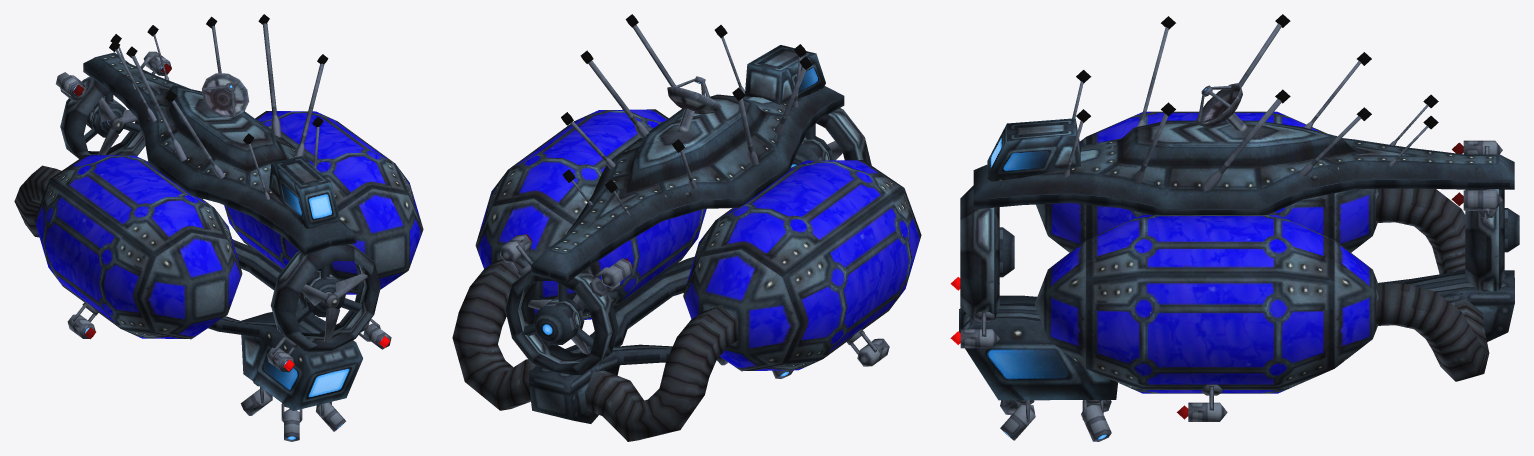
The model's file is Blimp.glb.
The picture shows the model from 3 angles, left to right: view 1: azimuth 30°, elevation 25°; view 2: azimuth 150°, elevation 25°; view 3: azimuth 270°, elevation 25°; orthographic projection. The views are drawn at different scales.
Parts seen in each view (by area): view 1: Object03, Mesh, Sphere02; view 2: Object03, Mesh, Sphere02; view 3: Object03, Mesh, Sphere02.
Part boxes in pixels (bbox=[...]): Object03: bbox=[14, 23, 391, 410]; Mesh: bbox=[34, 97, 423, 441]; Sphere02: bbox=[73, 14, 390, 371]; Object03: bbox=[452, 24, 889, 441]; Mesh: bbox=[475, 109, 921, 378]; Sphere02: bbox=[525, 14, 812, 266]; Object03: bbox=[959, 23, 1519, 421]; Mesh: bbox=[1000, 111, 1378, 441]; Sphere02: bbox=[950, 14, 1463, 419].
Size of the model in its own units: 2.18 by 2.13 by 2.92.
3 materials, 3 textured.
